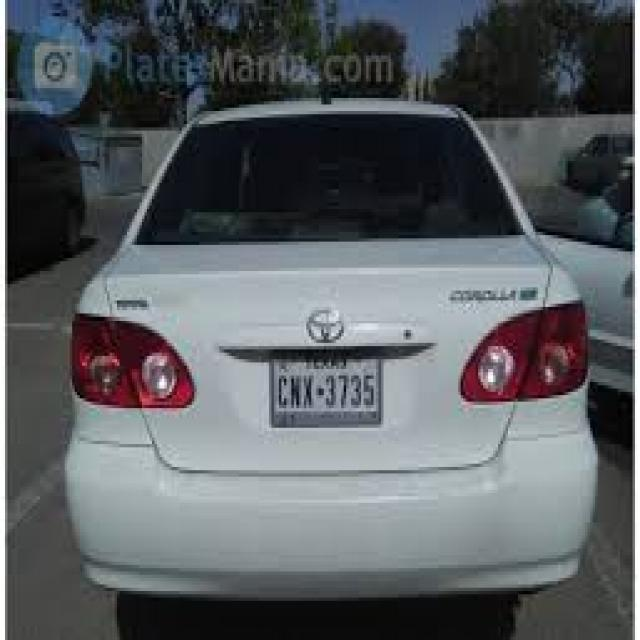Number-Plate: (271, 356, 379, 425)
